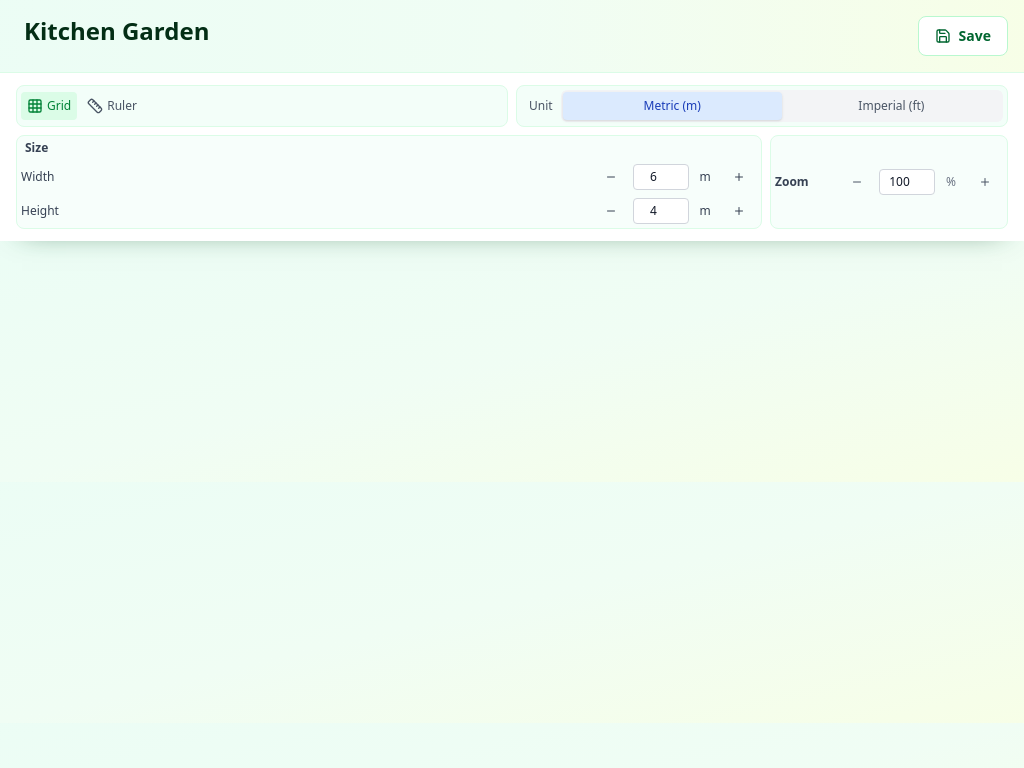
ControlPanel accessibility › shows both unit choices and converts displayed dimensions when imperial is selected
The width and height of the screenshot is (1024, 768).
Click the button with aria-label "Use imperial units": point(891, 106) [782,92,1001,120]
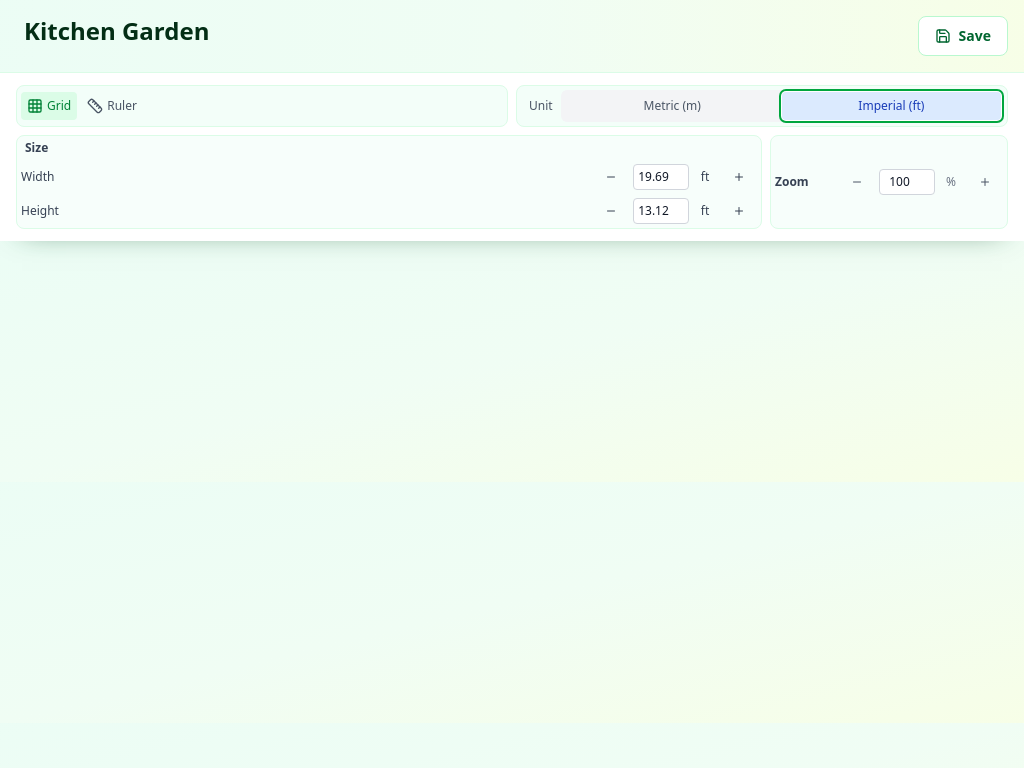
Now the number field named "Garden width" holds "19.69", box [633,164,689,190]
Now the number field named "Garden height" holds "13.12", box [633,198,689,224]
